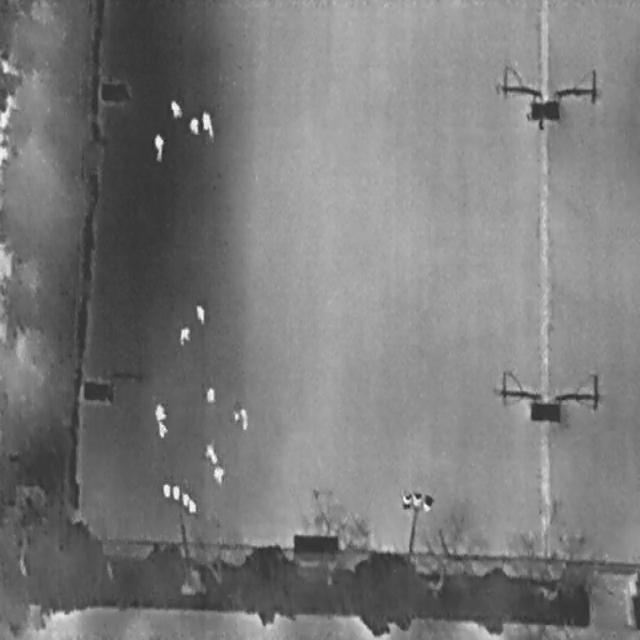Person: (199, 437, 219, 465), (198, 108, 215, 140), (231, 405, 249, 434), (165, 94, 184, 121), (151, 132, 163, 162), (192, 302, 207, 324), (211, 462, 225, 483), (153, 401, 166, 421), (178, 325, 190, 344), (156, 421, 167, 439), (187, 116, 199, 132), (205, 383, 215, 402)
